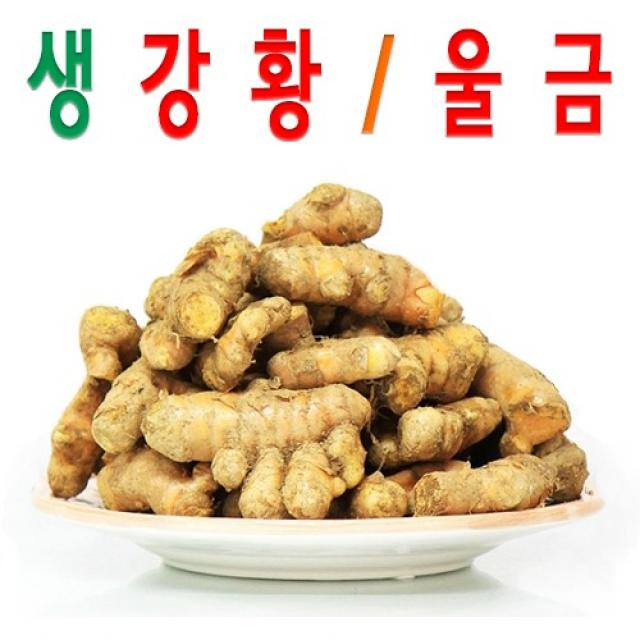ginger: (25, 173, 607, 518)
